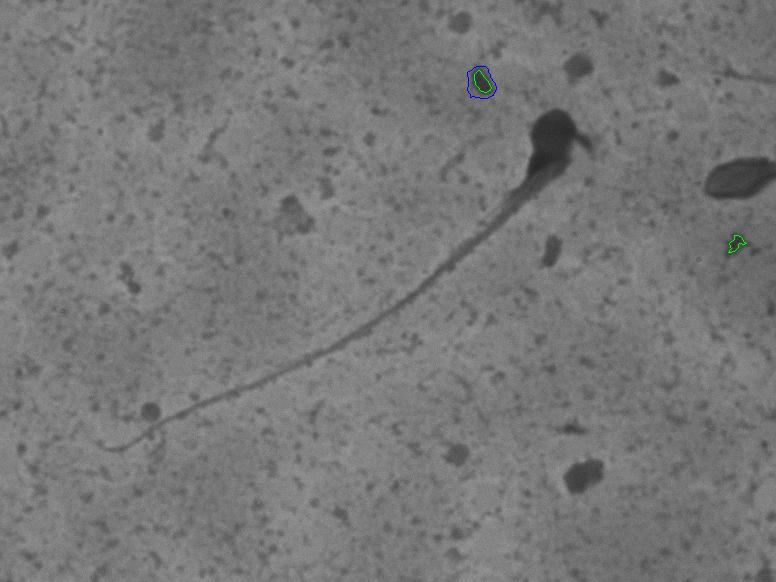Abnormal: (90, 59, 617, 478)
